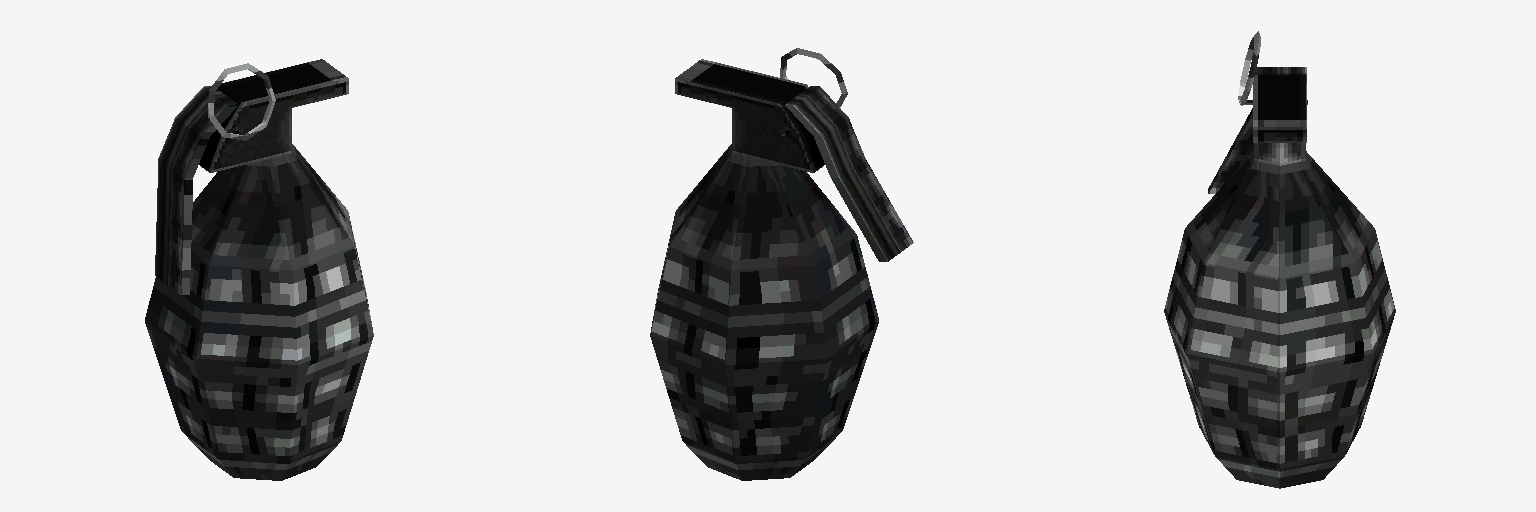
3 views of the same model, side by side, from view 1: azimuth 30°, elevation 25°; view 2: azimuth 150°, elevation 25°; view 3: azimuth 270°, elevation 25° (orthographic).
Visible parts, largest first — view 1: grenade.grenade.smd.mesh_0; view 2: grenade.grenade.smd.mesh_0; view 3: grenade.grenade.smd.mesh_0.
Part boxes in pixels (bbox=[...]): grenade.grenade.smd.mesh_0: bbox=[145, 59, 373, 480]; grenade.grenade.smd.mesh_0: bbox=[650, 48, 913, 480]; grenade.grenade.smd.mesh_0: bbox=[1164, 31, 1395, 488].
Size of the model in its own units: 7.26 by 12.88 by 6.61.
Materials: 1 (1 with a texture image).